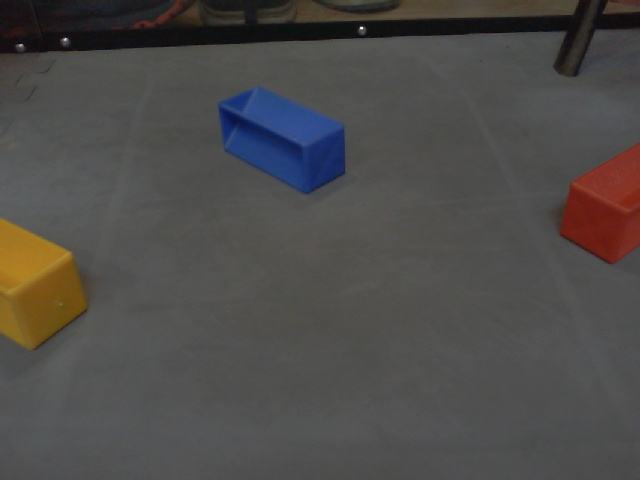BlueSample: (215, 84, 348, 195)
RedSample: (558, 142, 640, 266)
YellowSample: (1, 203, 90, 352)
